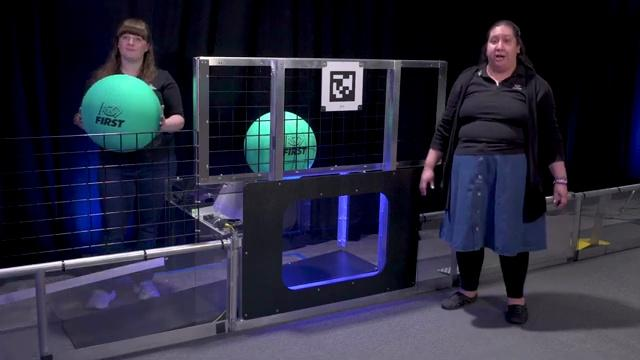ALGAE: (80, 73, 161, 153), (243, 110, 317, 173)
